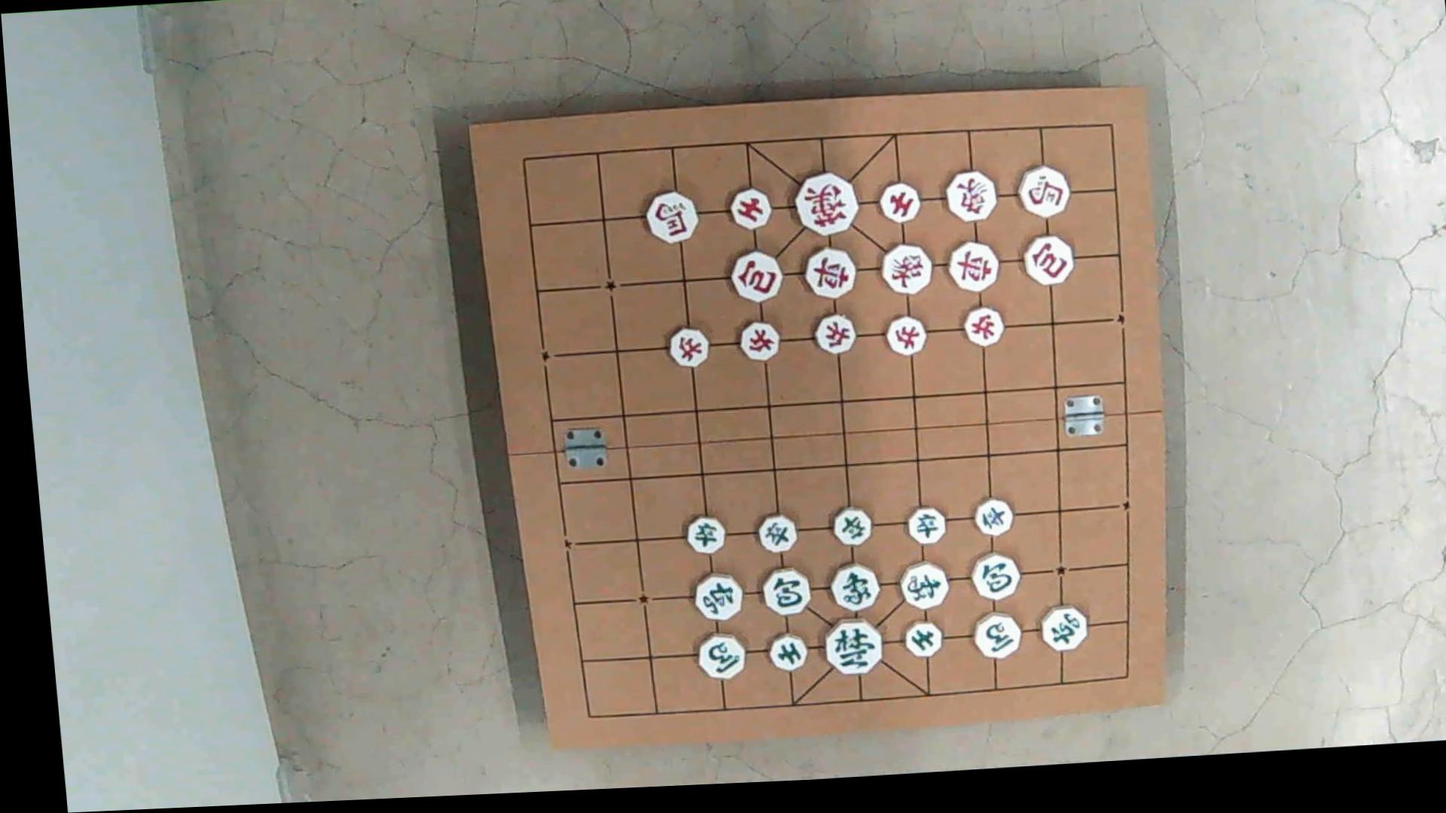cha_green: (690, 571, 744, 622), (1039, 604, 1090, 652)
cha_red: (803, 246, 857, 299), (946, 239, 1001, 291)
jol_green: (756, 513, 798, 553), (831, 506, 873, 546), (973, 497, 1015, 536), (684, 515, 725, 554), (906, 506, 946, 545)
jol_red: (961, 304, 1007, 347), (813, 312, 857, 355), (884, 314, 927, 355), (737, 320, 780, 361), (667, 326, 709, 367)
ma_green: (970, 611, 1023, 659), (694, 632, 747, 680)
ma_red: (1015, 164, 1070, 218), (645, 190, 699, 243)
po_green: (759, 566, 813, 617), (970, 551, 1023, 601)
po_red: (728, 249, 784, 302), (1021, 233, 1075, 285)
sa_green: (902, 619, 944, 658), (766, 632, 808, 671)
sa_red: (728, 187, 771, 230), (877, 181, 921, 223)
sang_green: (827, 561, 881, 612), (897, 560, 950, 610)
sang_red: (943, 169, 997, 221), (880, 242, 934, 294)
wang_green: (820, 617, 884, 675)
wang_red: (793, 171, 859, 236)
